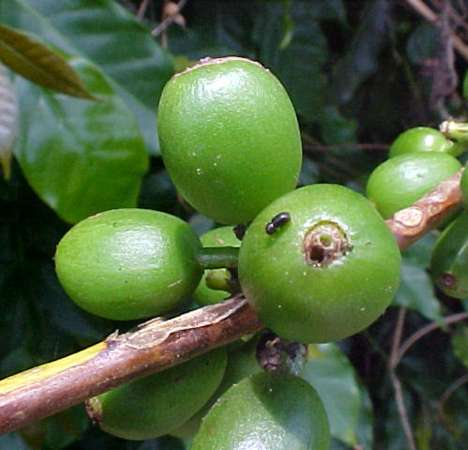broca de cafe: (226, 124, 410, 372)
